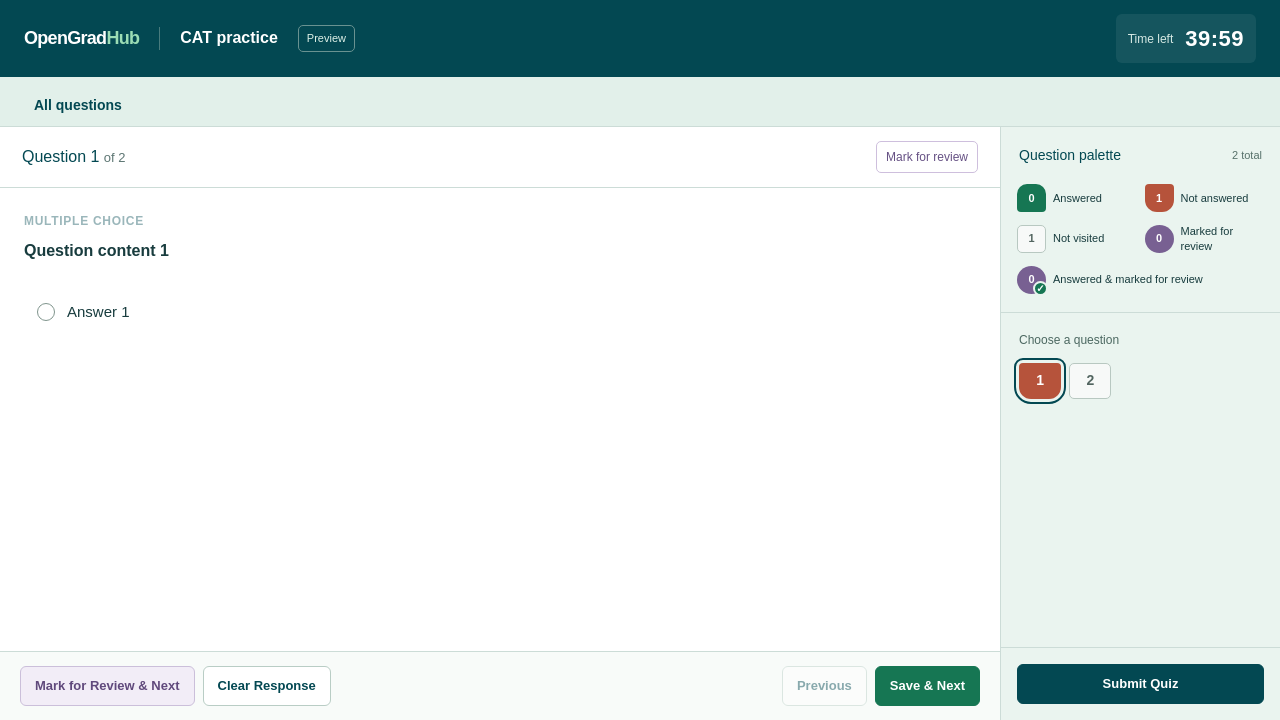
restarts numbering, palette and counts in each section
Check: the heading "Question 1 of 2" is shown, box left=22, top=145, right=126, bottom=169
Check: the text "2 total" is shown, box left=1232, top=147, right=1262, bottom=164
Step 1. Click the button "Save & Next" → (927, 686), box left=875, top=666, right=980, bottom=706
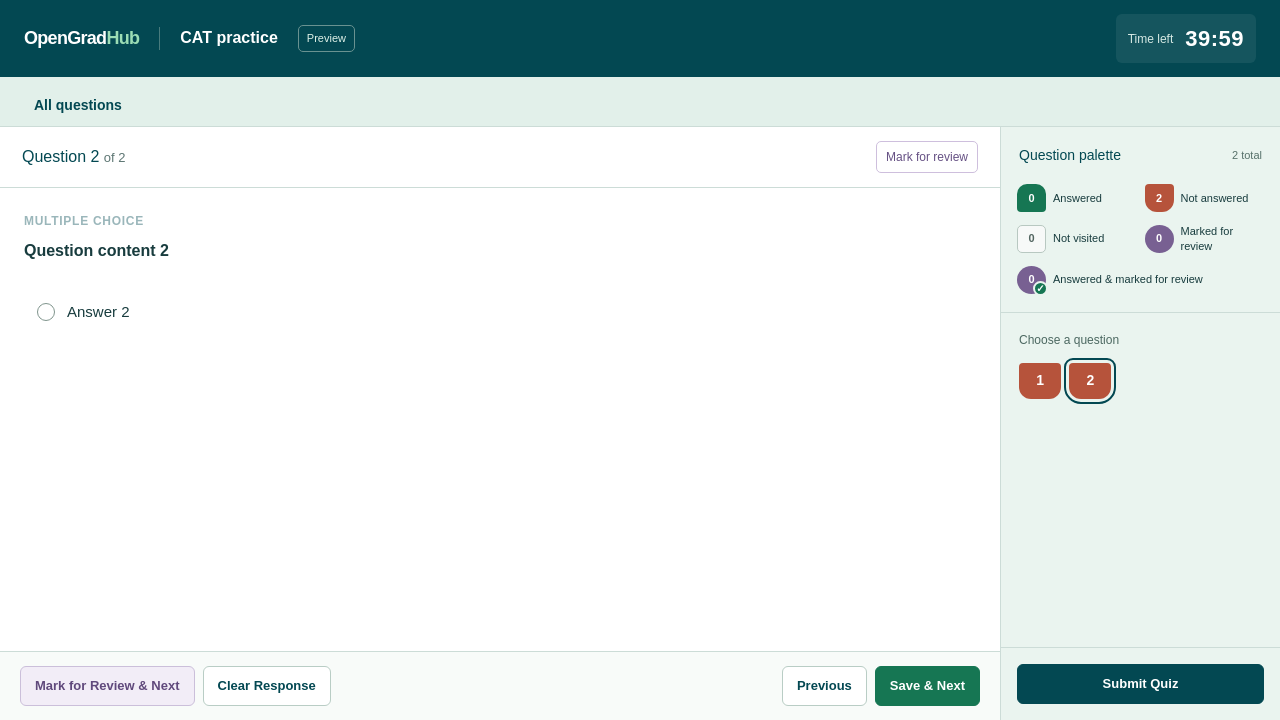
Step 2. Click the button "Save & Next" → (927, 686), box left=875, top=666, right=980, bottom=706
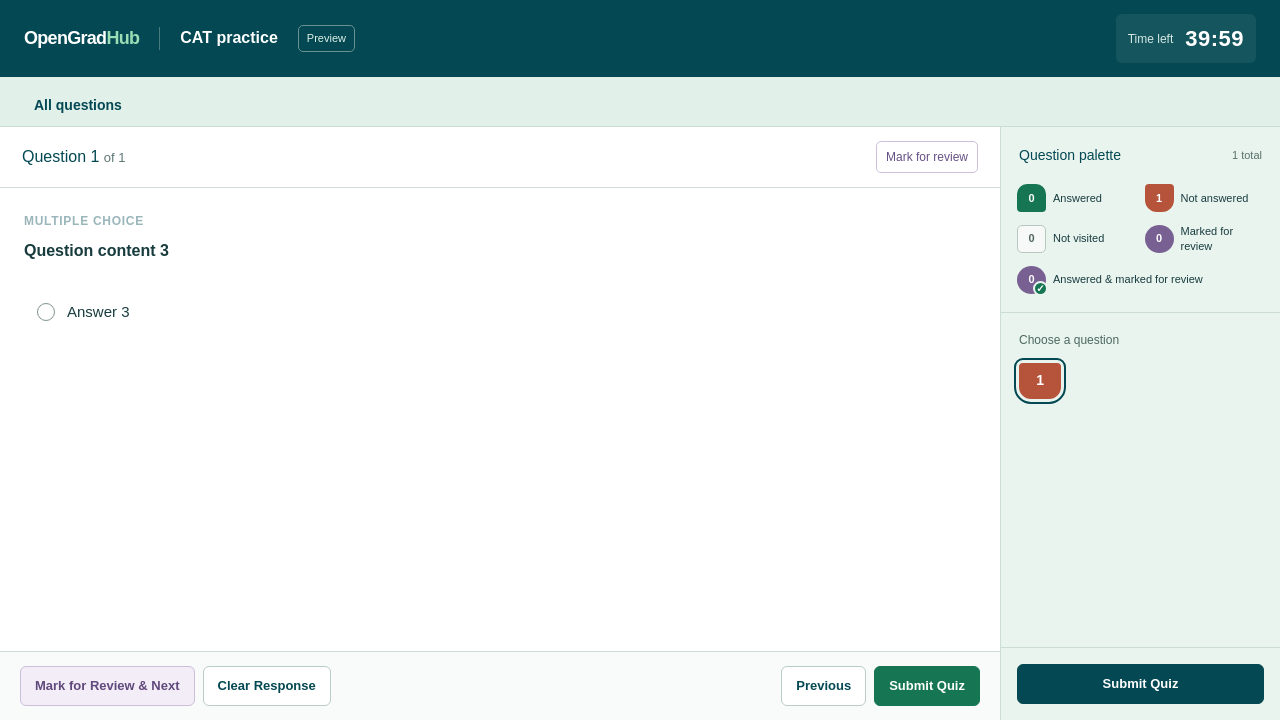
Check: the heading "Question 1 of 1" is shown, box left=22, top=145, right=126, bottom=169
Check: the radio button labelled "Answer 3" is shown, box left=24, top=288, right=976, bottom=336
